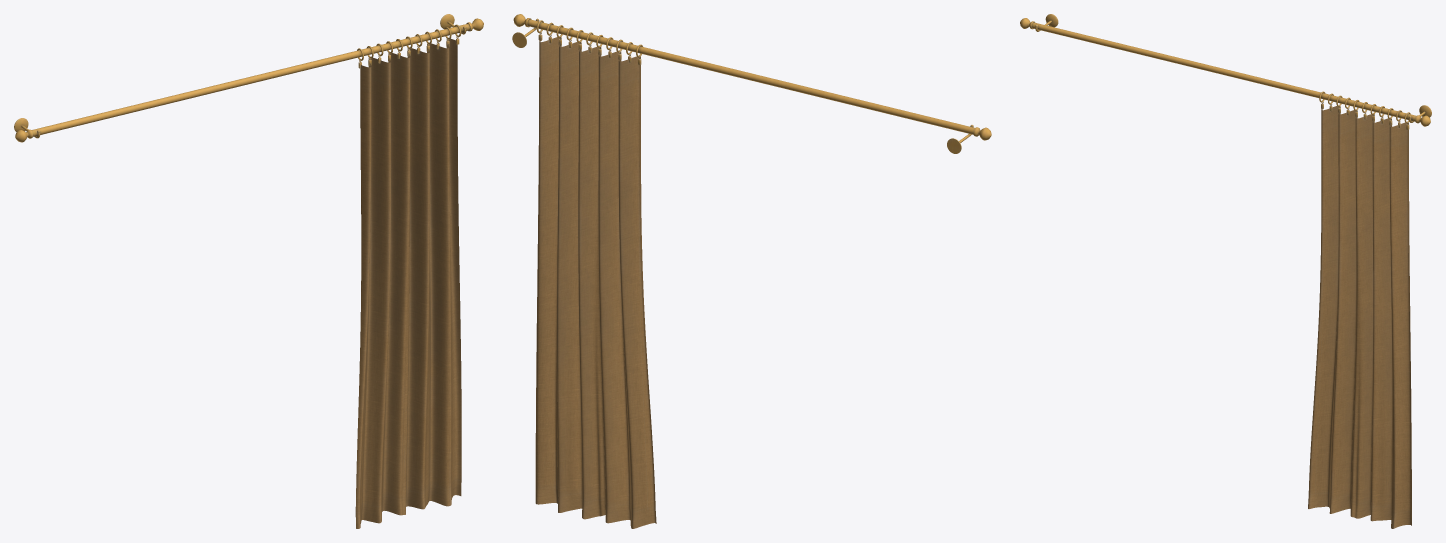
Rendered from corner_curtain.glb.
3 renders of one model, left to right at view 1: azimuth 30°, elevation 25°; view 2: azimuth 150°, elevation 25°; view 3: azimuth 330°, elevation 25°, orthographic. The views are drawn at different scales.
Visible parts, largest first — view 1: Curtain; view 2: Curtain; view 3: Curtain.
Boxes of the visible parts, x1,y1,x2,y2 form: Curtain: (14, 14, 483, 528); Curtain: (512, 14, 991, 528); Curtain: (1020, 14, 1431, 528).
Bounding box in the file's own units: 1.4 × 1.35 × 0.1187.
1 material, 1 textured.
